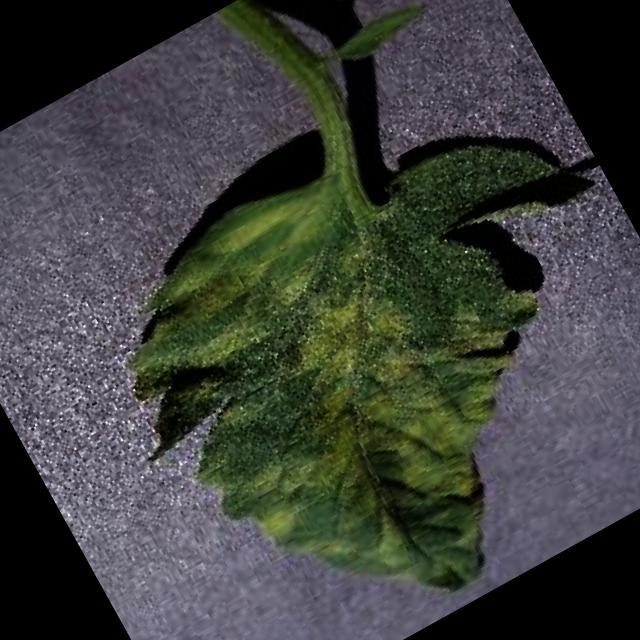Tomato mold leaf: (60, 46, 640, 640)
